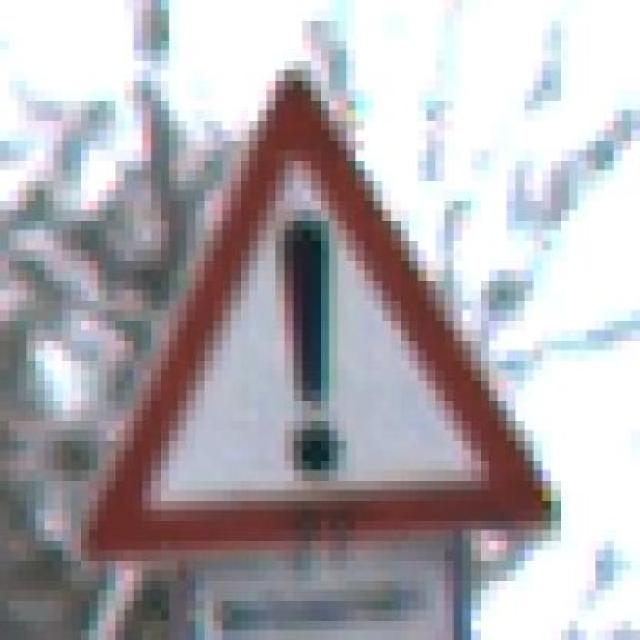Attention Please-: (53, 49, 569, 560)
